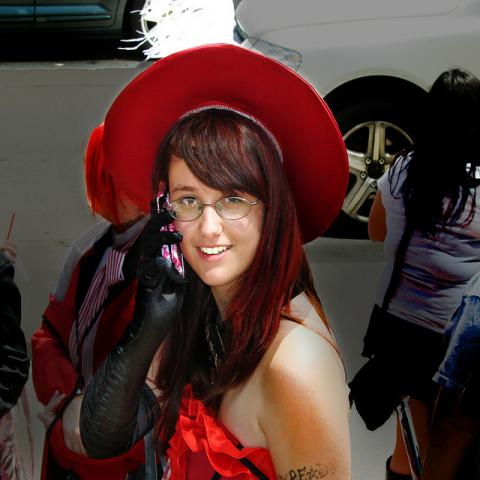car: (233, 1, 480, 242), (0, 0, 163, 54)
